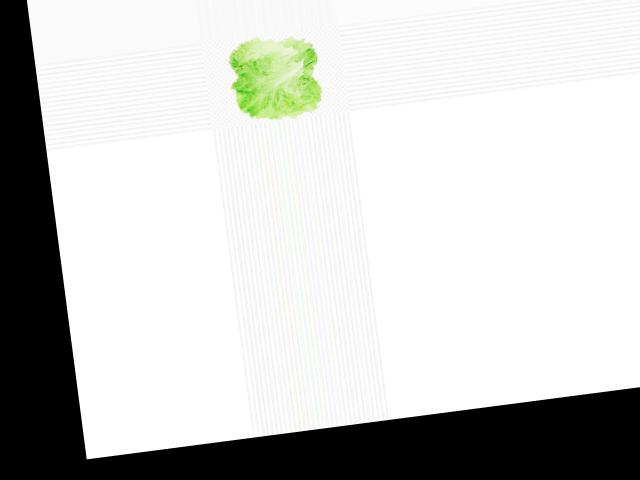lettuce: (219, 27, 331, 128)
